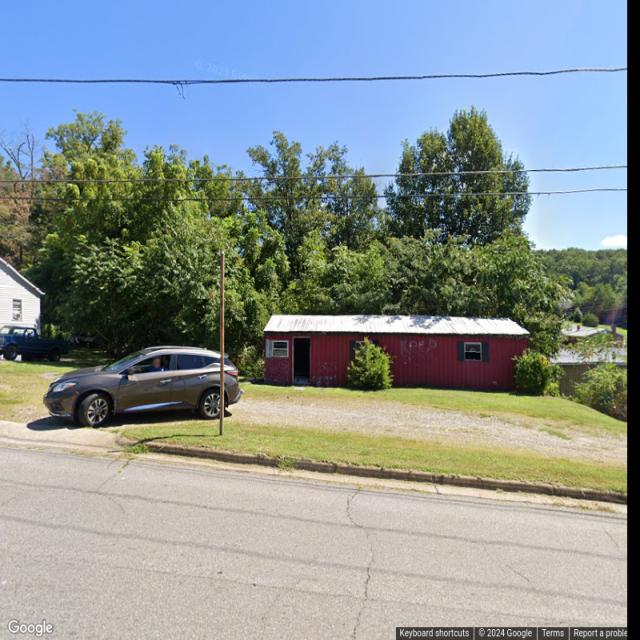House: (263, 315, 530, 392), (0, 257, 47, 360)
